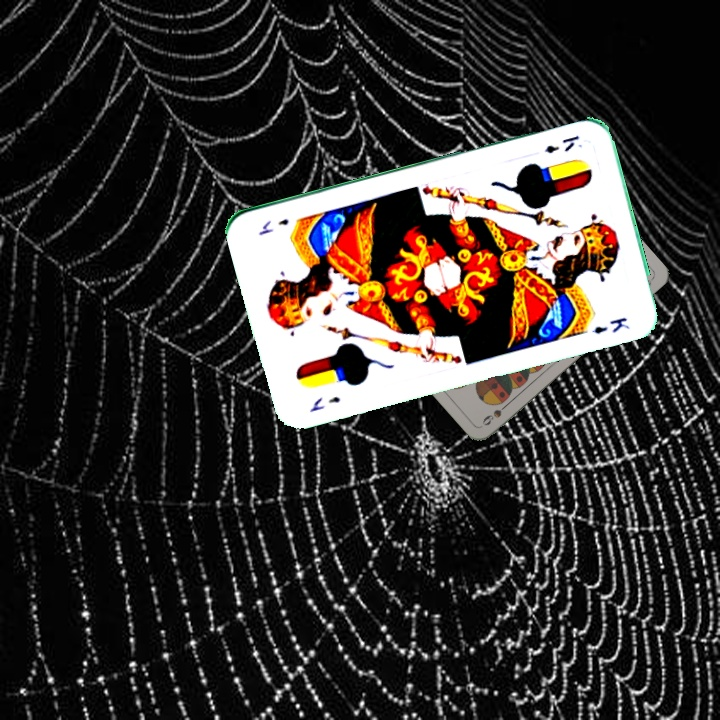EK: (541, 131, 582, 156), (306, 392, 343, 414)
S9: (478, 398, 513, 428)
